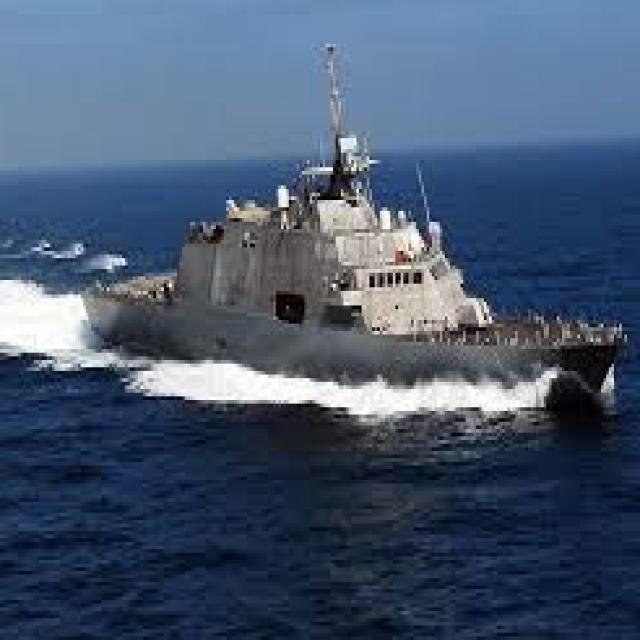navalvessels: (73, 62, 640, 433)
